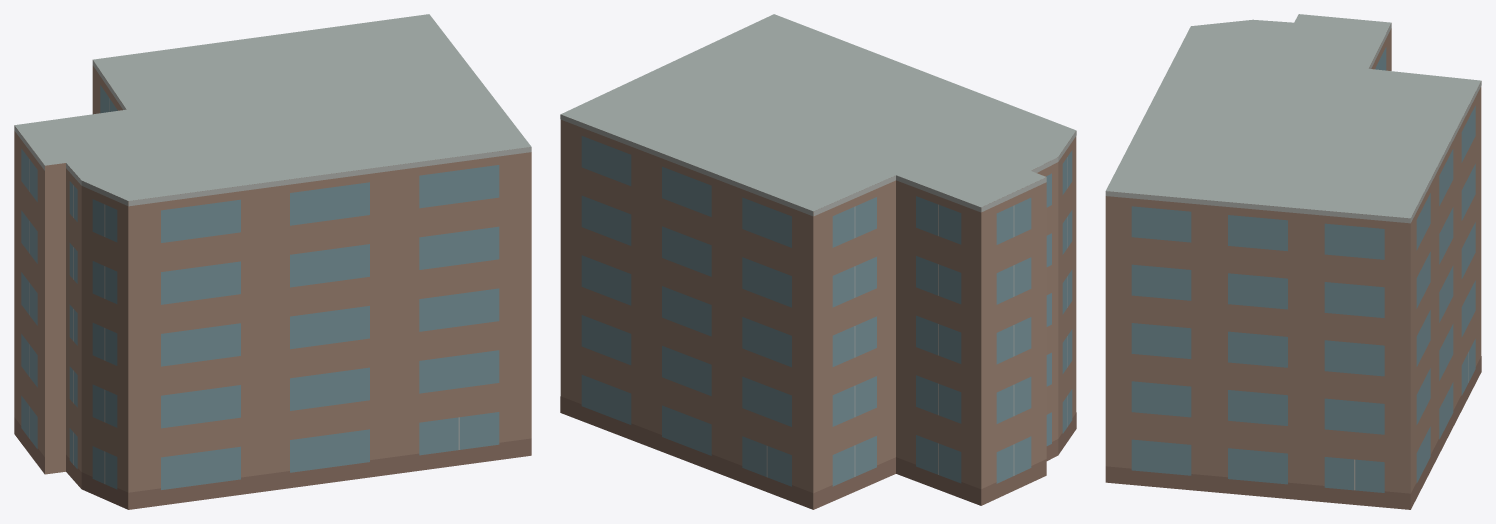
Rendered from survey-upis-32704936.glb.
3 views of the same model, side by side, from view 1: azimuth 30°, elevation 25°; view 2: azimuth 150°, elevation 25°; view 3: azimuth 270°, elevation 25° (orthographic). The views are drawn at different scales.
Visible parts, largest first — view 1: survey-upis-32704936.tmp; view 2: survey-upis-32704936.tmp; view 3: survey-upis-32704936.tmp.
Part boxes in pixels (x1,y1,x2,y2): survey-upis-32704936.tmp: [14, 14, 531, 509]; survey-upis-32704936.tmp: [560, 14, 1076, 509]; survey-upis-32704936.tmp: [1105, 14, 1481, 509].
Bounding box in the file's own units: 21.48 × 14.28 × 16.7.
